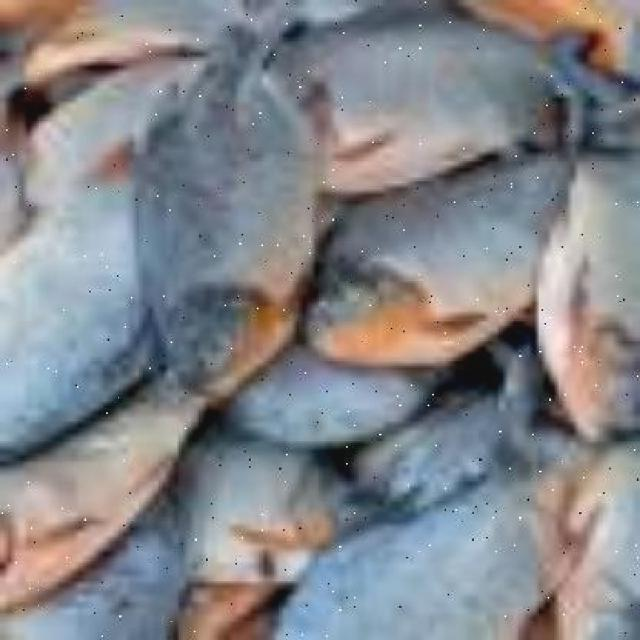ikan-pacu: (140, 31, 314, 382), (314, 147, 570, 370)
